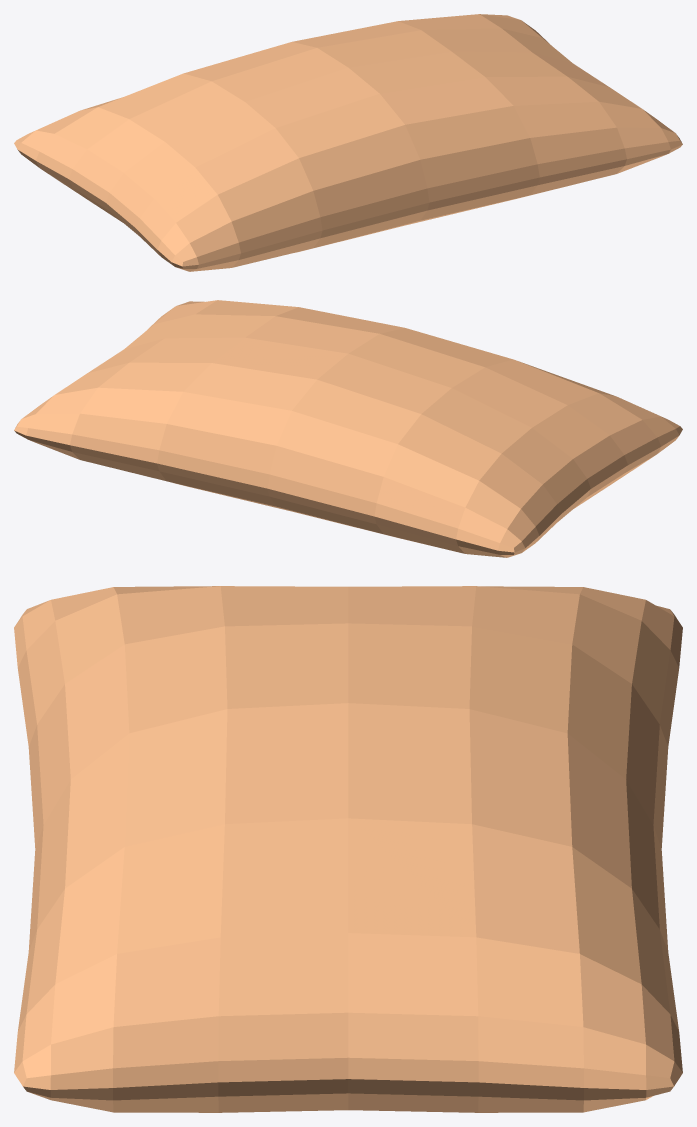
Rendered from Pillow 8.fbx.
3 views of the same model, one above another, from view 1: azimuth 30°, elevation 25°; view 2: azimuth 150°, elevation 25°; view 3: azimuth 270°, elevation 25° (orthographic). The views are drawn at different scales.
Visible parts, largest first — view 1: Node 0; view 2: Node 0; view 3: Node 0.
Boxes of the visible parts, box(x1,y1,x2,y2) form: Node 0: box(14, 14, 682, 271); Node 0: box(14, 300, 682, 557); Node 0: box(14, 586, 682, 1112).
Size of the model in its own units: 0.5223 by 0.2142 by 0.8855.
